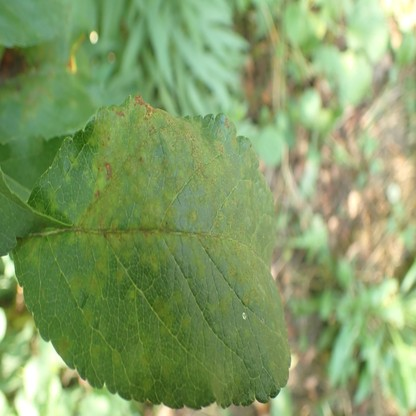scab: (22, 97, 291, 406), (0, 40, 57, 124)
